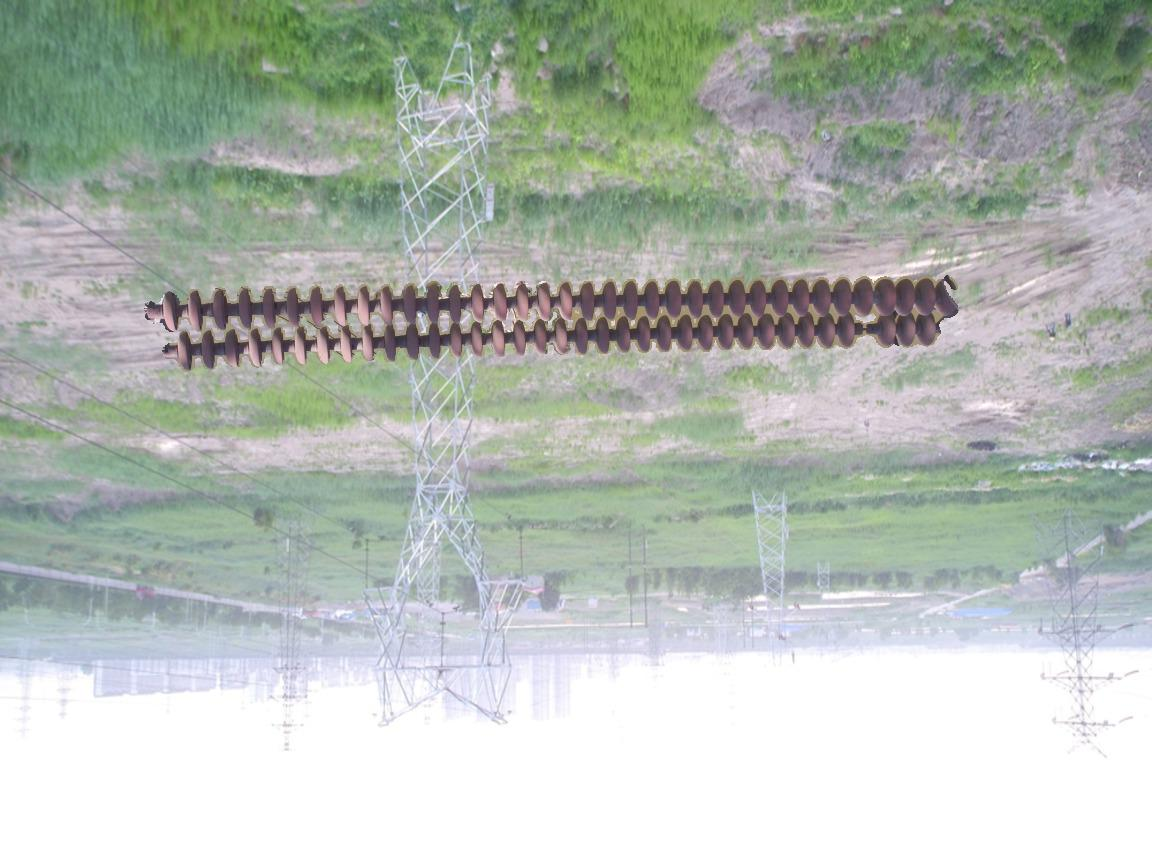insulator: (149, 269, 956, 376)
insulator_stringdrop: (835, 311, 899, 351)
